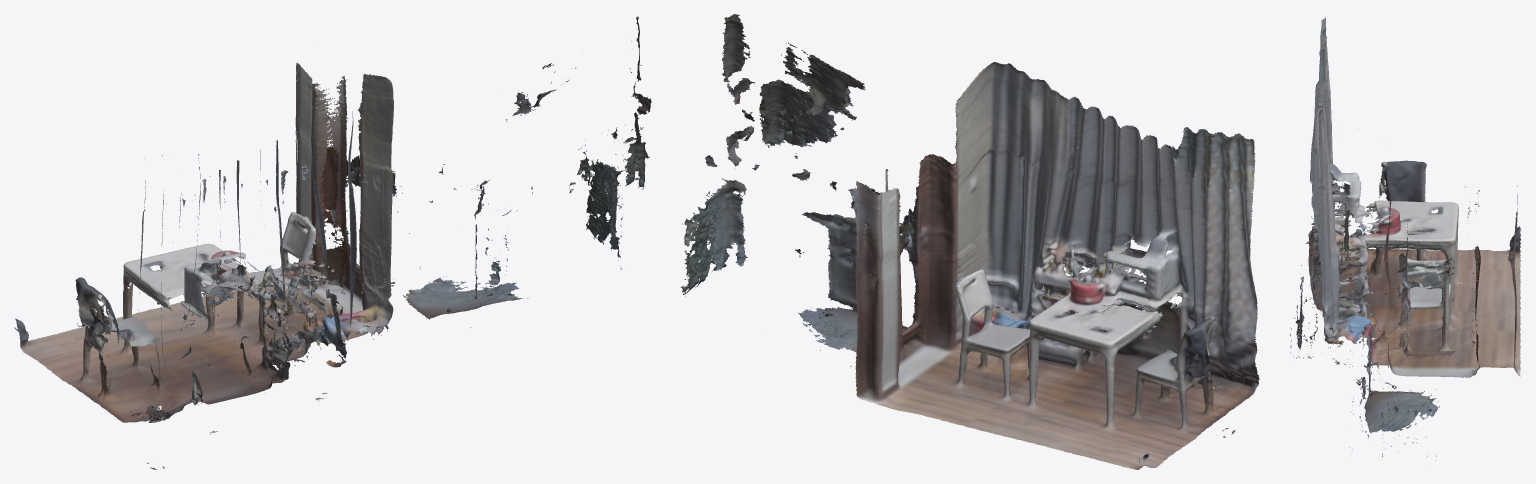
The model's file is apartment-detail-6-e08bad862295.glb.
3 views of the same model, side by side, from view 1: azimuth 30°, elevation 25°; view 2: azimuth 150°, elevation 25°; view 3: azimuth 270°, elevation 25° (orthographic). The views are drawn at different scales.
Size of the model in its own units: 5.05 by 2.9 by 2.08.
